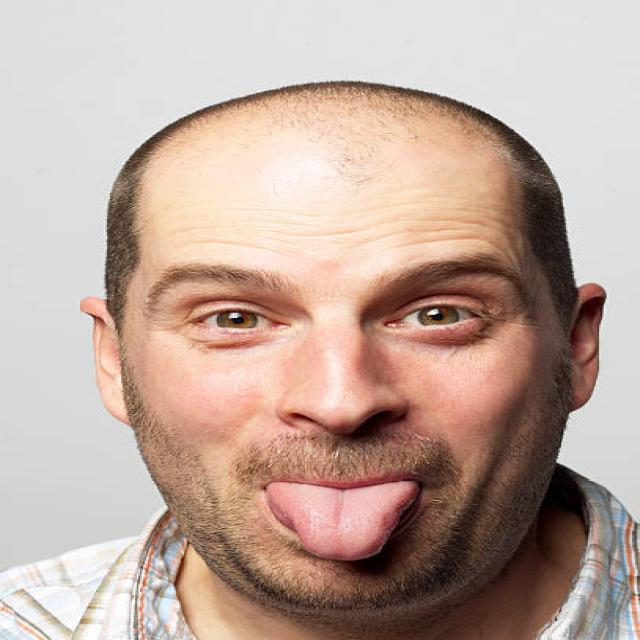tongue: (259, 476, 428, 566)
